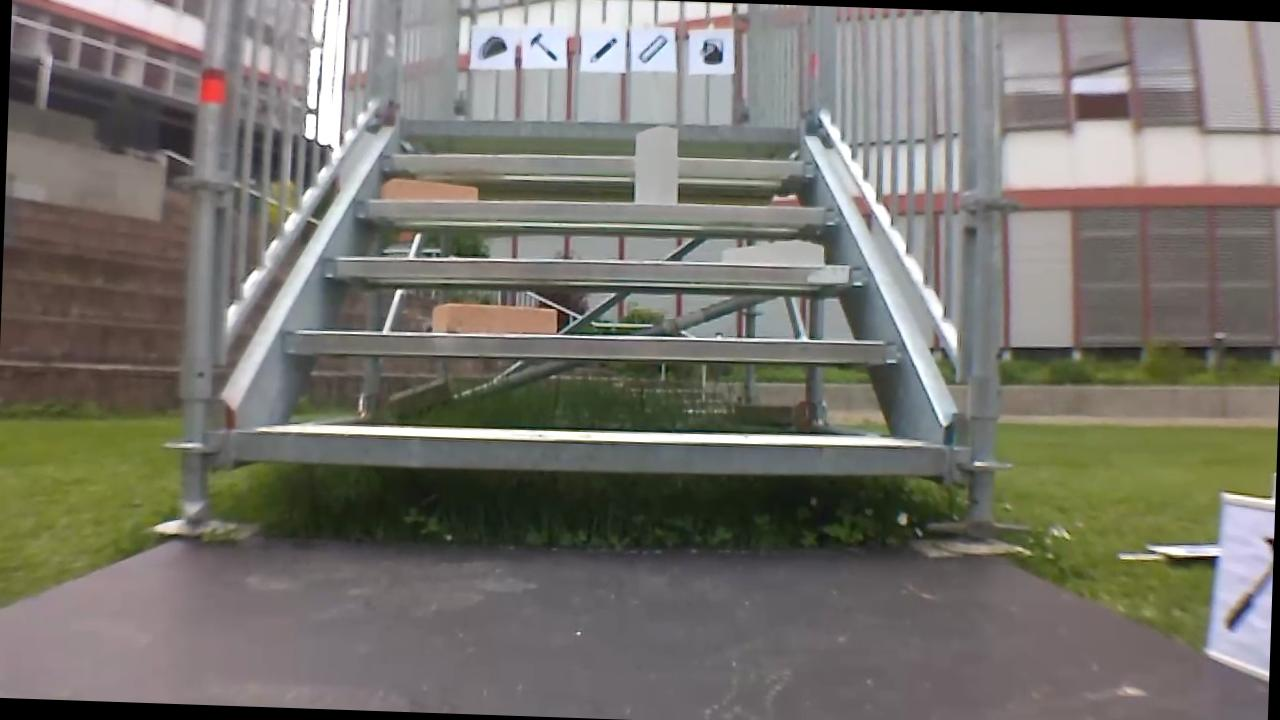brick: (432, 303, 554, 334), (633, 125, 679, 204), (723, 237, 822, 265), (382, 178, 478, 202)
bucket: (694, 34, 726, 67)
edge: (231, 422, 943, 483), (281, 321, 900, 371), (323, 246, 865, 290), (355, 191, 838, 230), (380, 146, 815, 184), (401, 115, 796, 145)
hammer: (523, 26, 565, 67)
pencil: (584, 31, 620, 69)
ruler: (634, 29, 673, 68)
steps: (222, 103, 961, 490)
taco: (471, 27, 510, 65)
